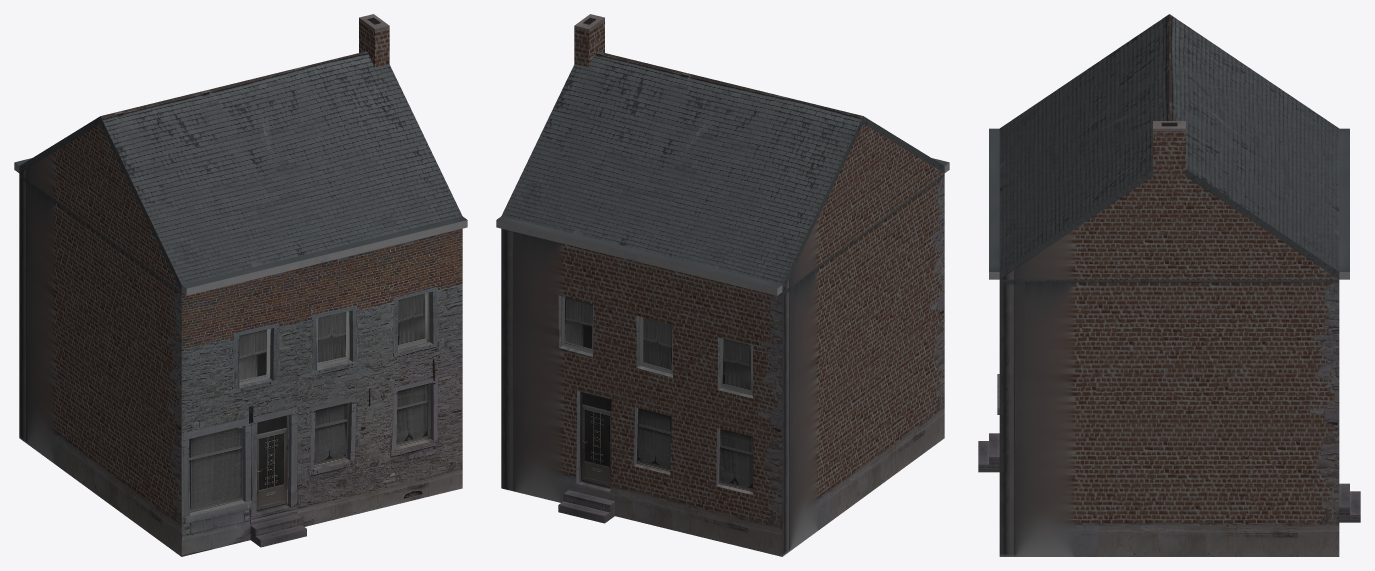
Rendered from feluy_village_house_1_belgium.glb.
3 views of the same model, side by side, from view 1: azimuth 30°, elevation 25°; view 2: azimuth 150°, elevation 25°; view 3: azimuth 270°, elevation 25° (orthographic). The views are drawn at different scales.
Parts seen in each view (by area): view 1: Cube; view 2: Cube; view 3: Cube.
Part boxes in pixels (x1,y1,x2,y2): Cube: [14, 14, 467, 556]; Cube: [496, 14, 949, 556]; Cube: [978, 14, 1360, 556].
Size of the model in its own units: 8 by 11.14 by 9.
1 material, 1 textured.
